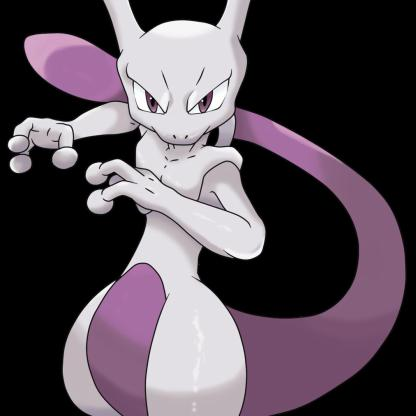Mewtwo: (1, 1, 416, 408)
